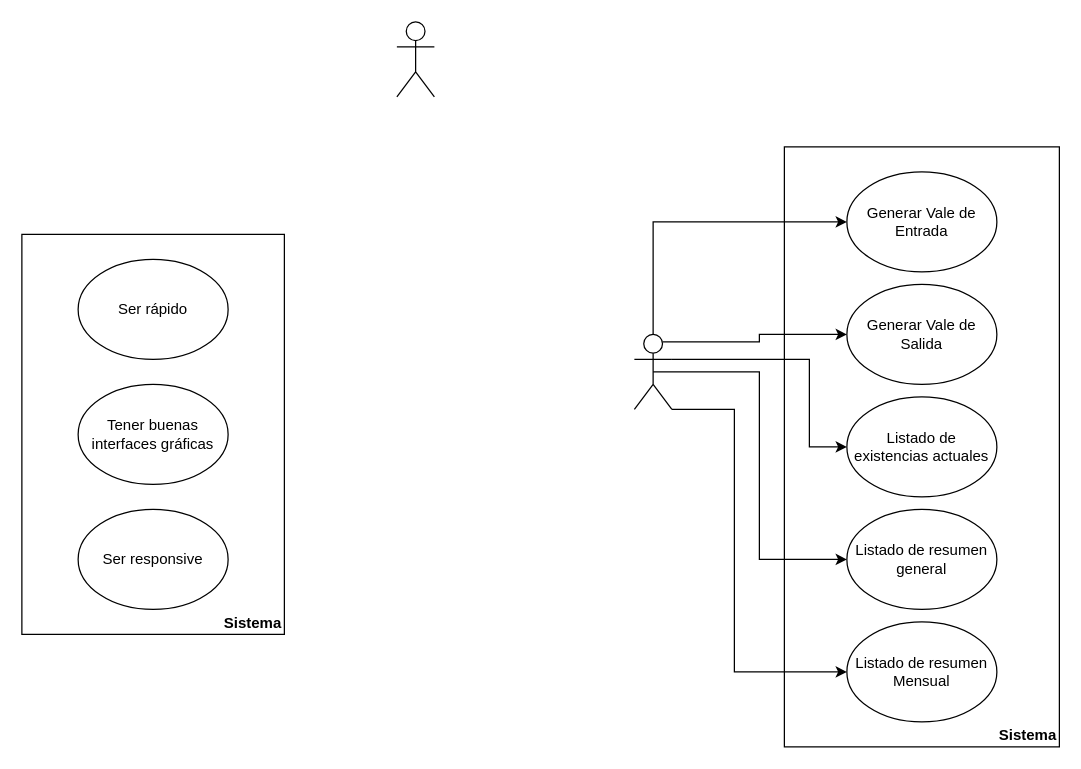
The diagram is 1081 pixels wide and 769 high, and some of its shapes have lost their labels. The box of each missing label's shape, as (x1, y1, x2, y2) in pixels:
Actor: (396, 21, 434, 97)
Gestor de Almacén: (633, 333, 672, 409)
